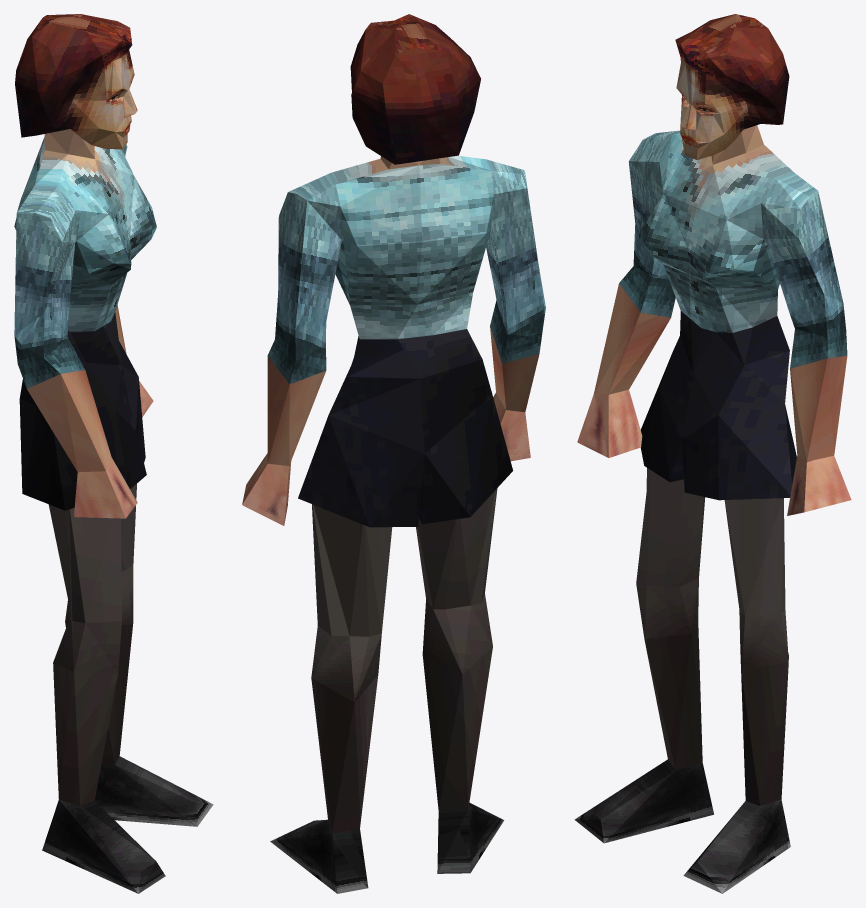
The model's file is primary_018.glb.
The picture shows the model from 3 angles, left to right: view 1: azimuth 30°, elevation 25°; view 2: azimuth 150°, elevation 25°; view 3: azimuth 270°, elevation 25°; orthographic projection. The views are drawn at different scales.
Visible parts, largest first — view 1: Object; view 2: Object; view 3: Object.
Part boxes in pixels (box(x1,y1,x2,y2)): Object: box(14, 14, 213, 893); Object: box(242, 14, 545, 893); Object: box(574, 14, 851, 893).
Size of the model in its own units: 0.5991 by 2.03 by 0.631.
92 materials, 92 textured.
